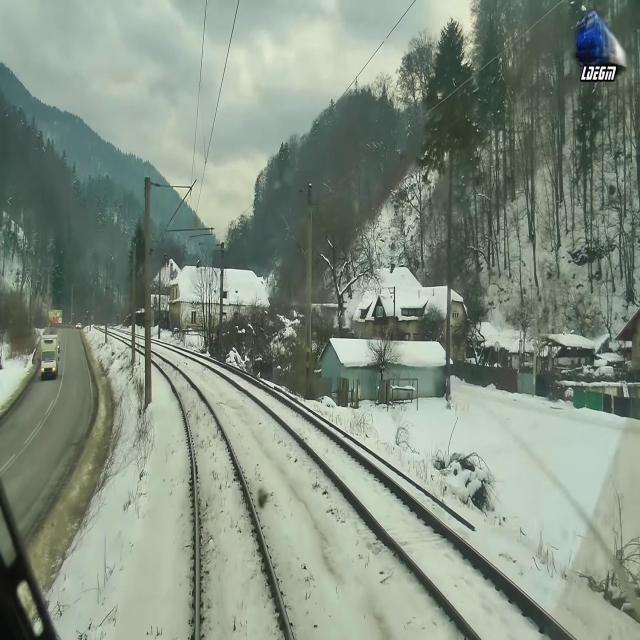rail-track: (207, 361, 568, 639), (151, 353, 289, 639)
